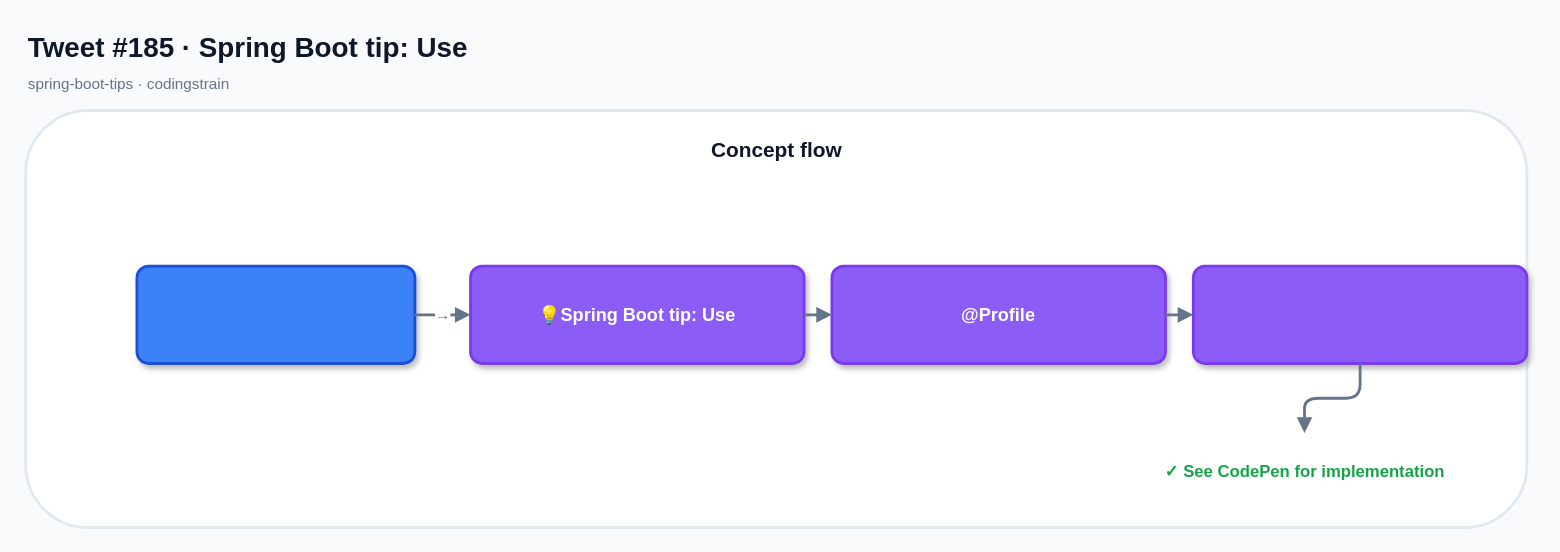
This 1560x552 diagram has some shape labels left out. Here are the shapes that lost their labels. From the top down, the centre of each, then its label:
(x=276, y=316): Problem / context
(x=1361, y=316): to group and load beans/configurations in specific environments
